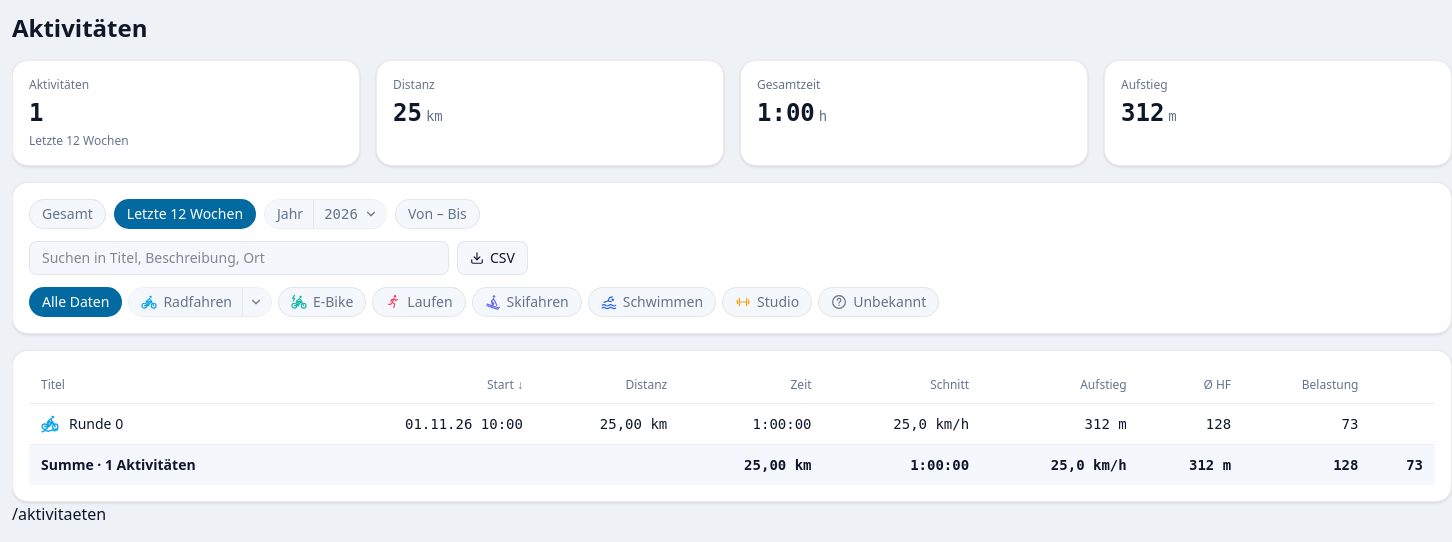
it: Aktivitätenliste › Jahr und Von–Bis
Expected: the link "Runde 0" is shown, [69,414,123,434]
# geteilter Knopf „Jahr | 2026 ▾“
Click the button "Jahr" at (289, 214), box [265,200,313,228]
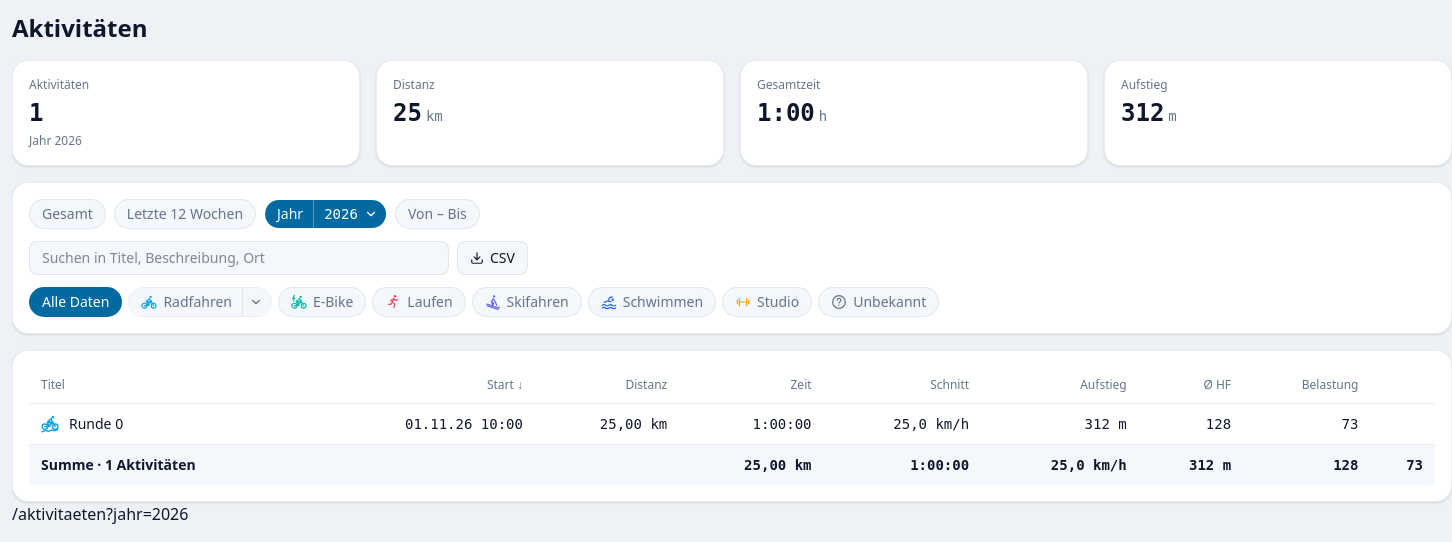
Result: the button "Jahr" is pressed at [265,200,313,228]
# Menü enthält Jahre mit Aktivitäten und das laufende
Click the button named "Jahr wählen" at (350, 214), box [313,200,386,228]
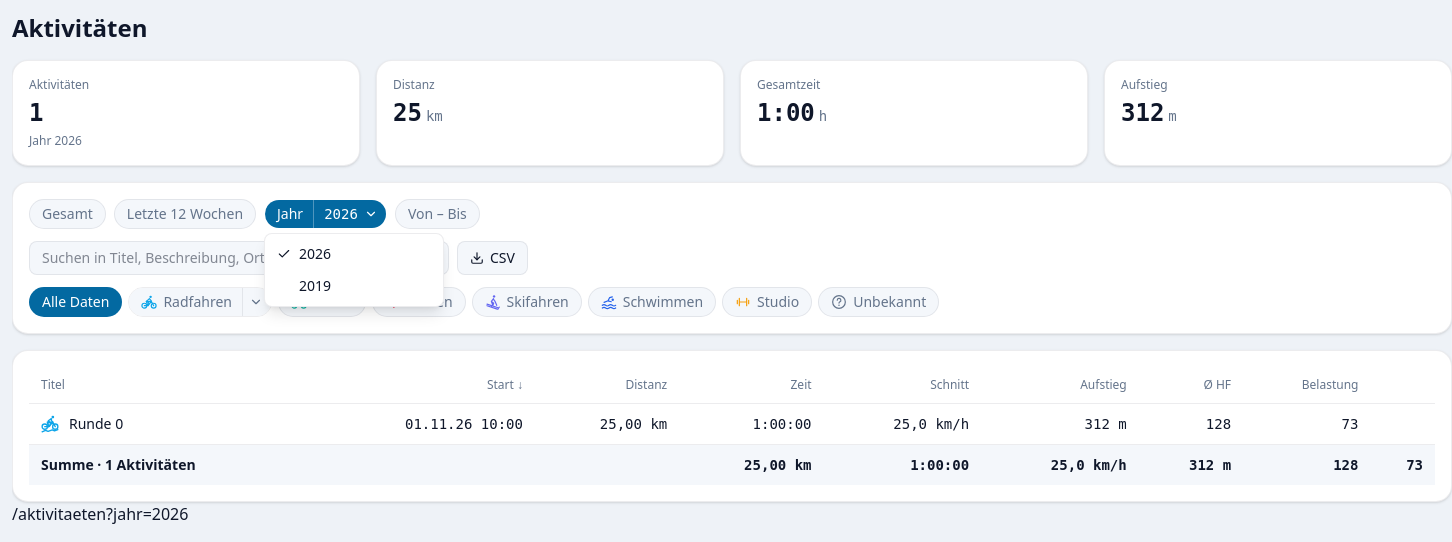
Click the menu item "2019" at (354, 286), box [265,270,443,302]
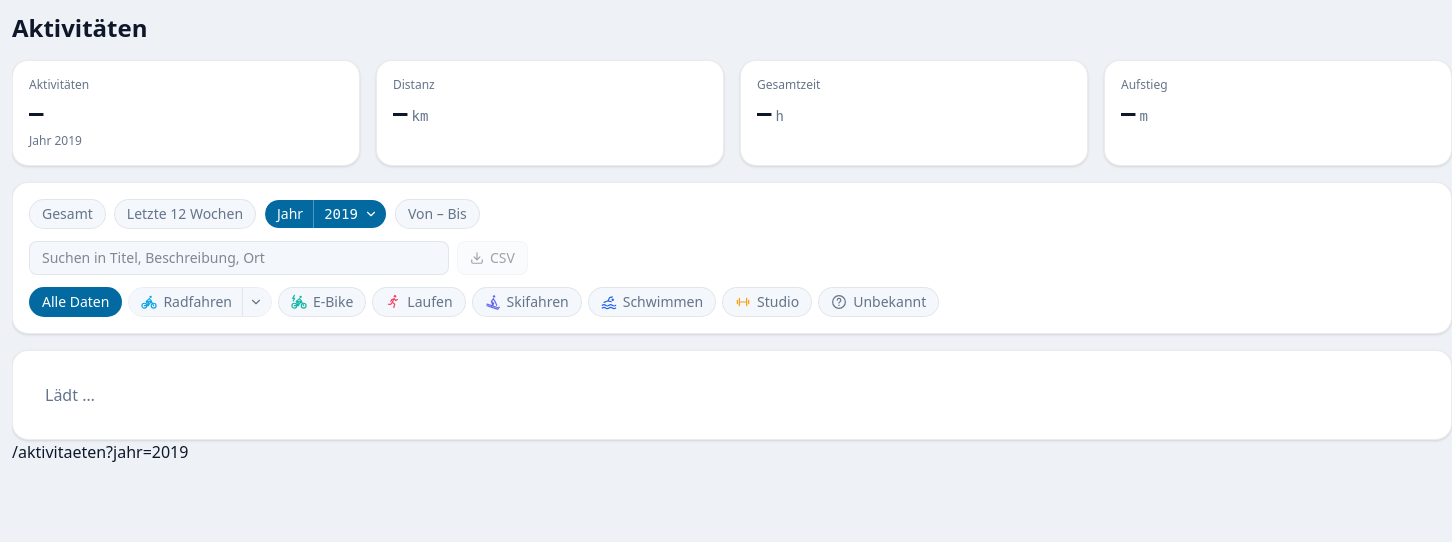
Result: the text with test id "where" reads "/aktivitaeten?jahr=2019" at [12,441,188,463]
Result: the text "Jahr 2019" is shown at [29,132,82,149]
# Von–Bis übernimmt das Jahr und lässt sich anpassen
Click the button "Von – Bis" at (437, 214), box [395,199,480,229]
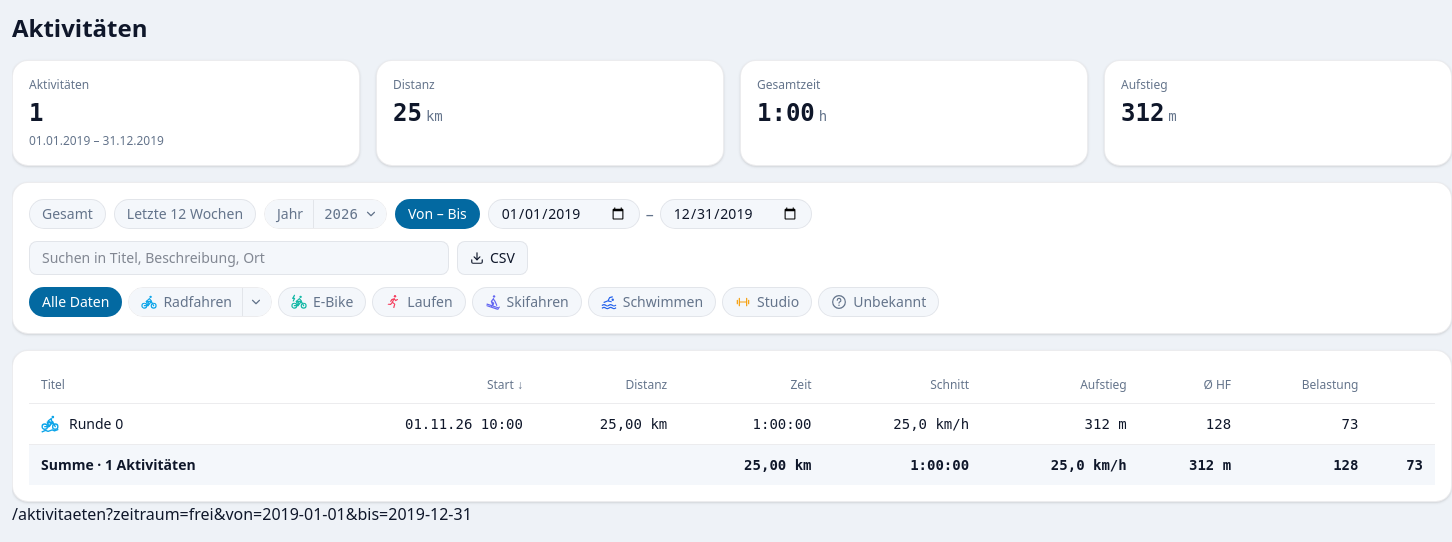
Result: the text with test id "where" reads "/aktivitaeten?zeitraum=frei&von=2019-01-01&bis=2019-12-31" at [12,503,472,525]
Type "2019-06-30" into the date field named "Bis" at (736, 214), box [660,199,812,229]
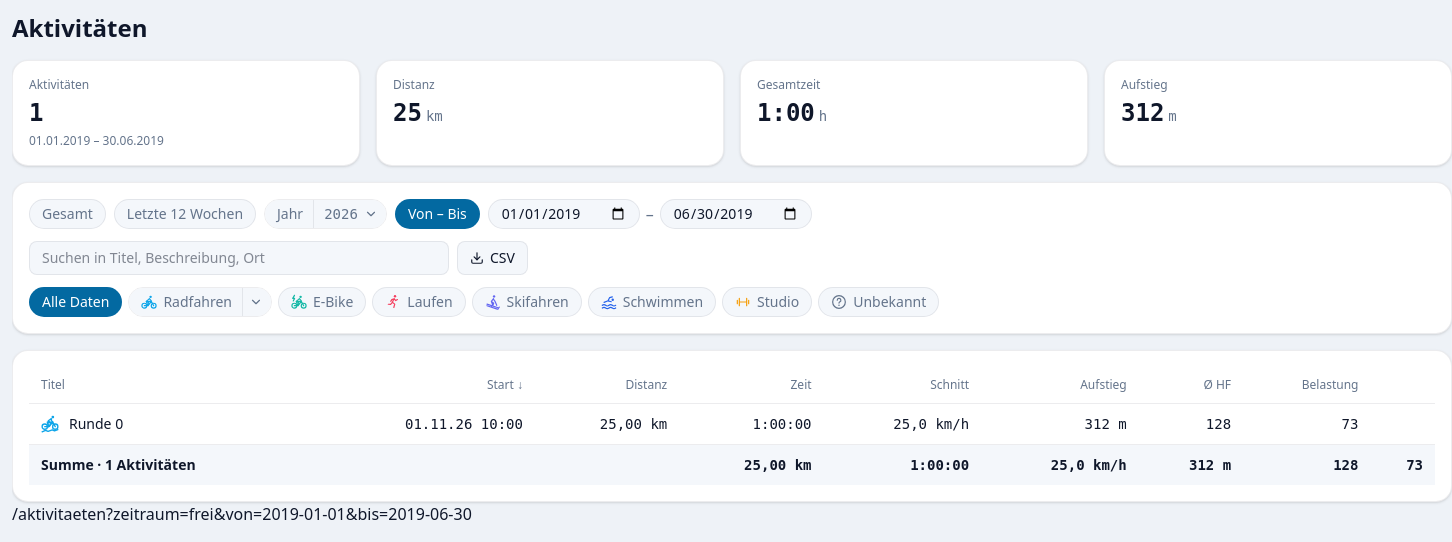
Result: the text "01.01.2019 – 30.06.2019" is shown at [29,132,164,149]
Clear the date field named "Von" at (564, 214), box [488,199,640,229]
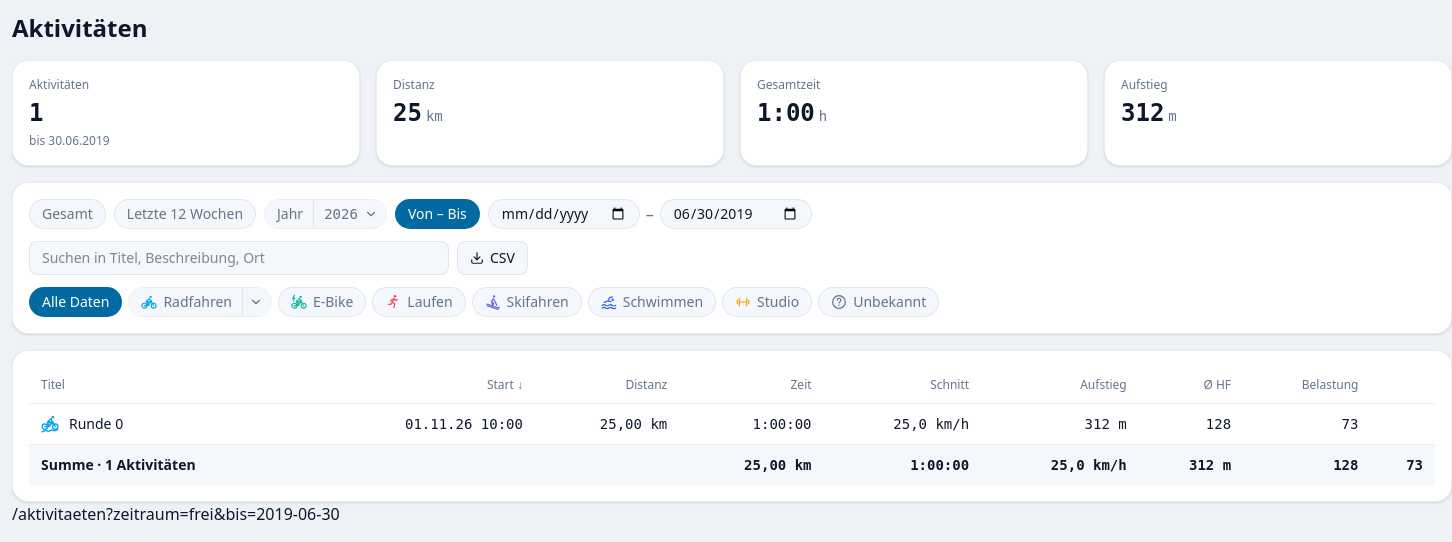
Result: the text "bis 30.06.2019" is shown at [29,132,110,149]
